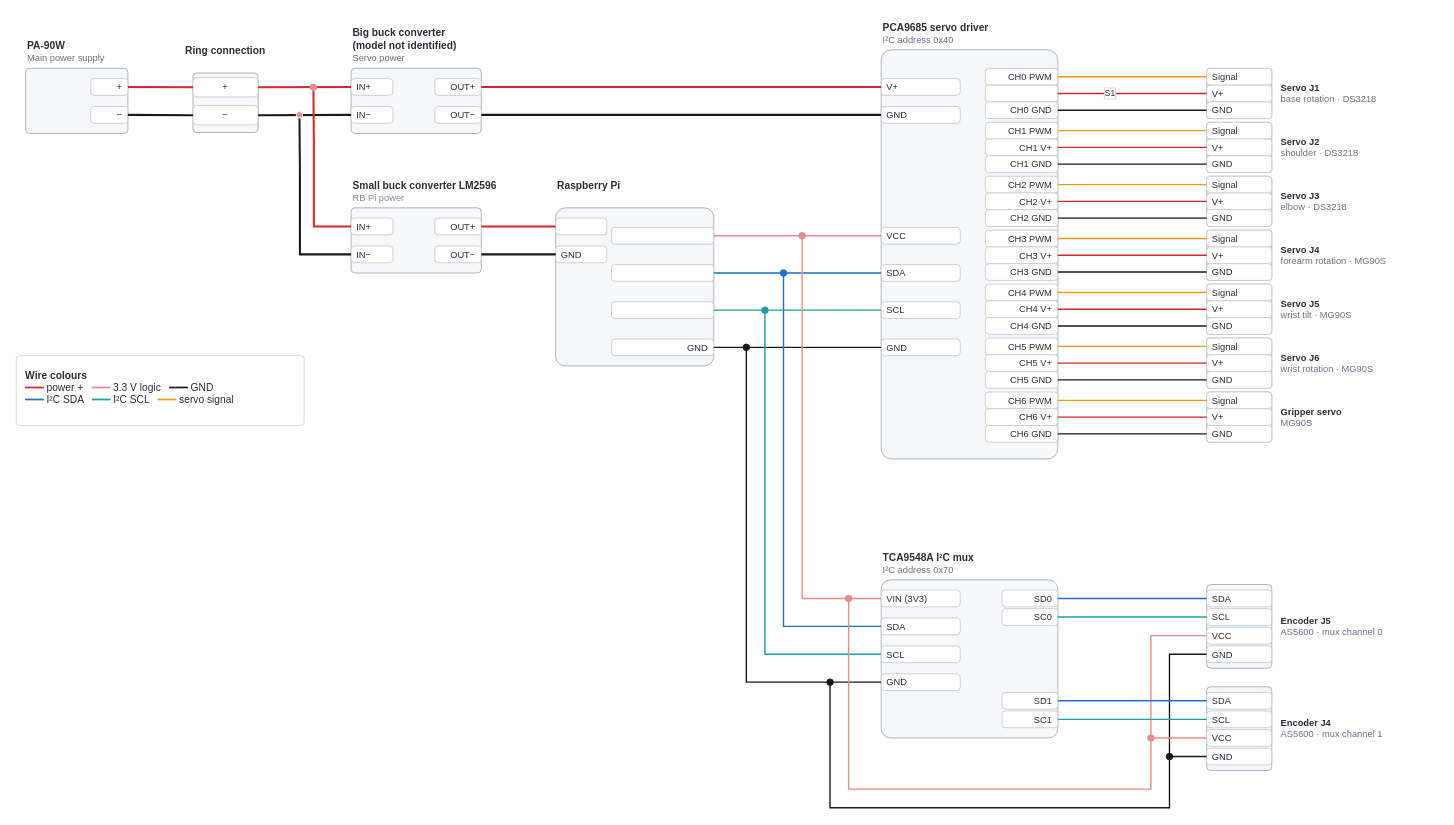
Image size: 1454x825. Some labels were removed from this diagram. Each missing label, with the centre of its shape:
3V3: the point at 662,235
5V: the point at 581,226
CH0 V+: the point at 1021,93
SCL · GPIO3: the point at 662,310
SDA · GPIO2: the point at 662,272
